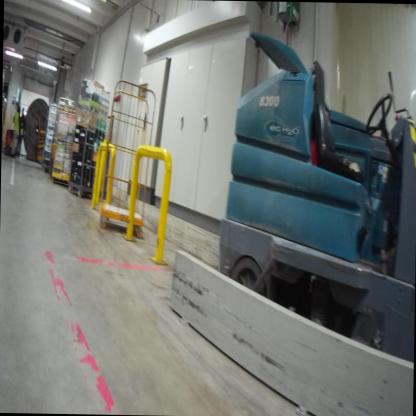pallet_truck: (3, 130, 19, 154)
